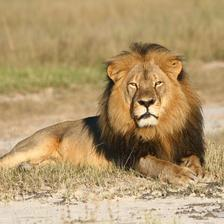Lion: (0, 30, 224, 185)
